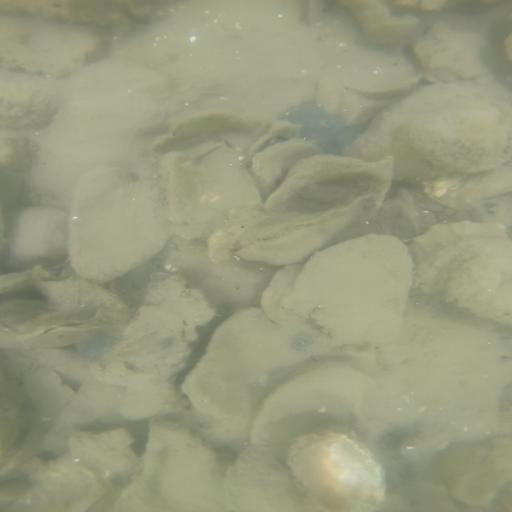Oyster-Closed: (340, 78, 511, 180), (291, 232, 417, 343), (406, 220, 512, 331), (404, 95, 510, 172), (229, 446, 302, 512), (1, 71, 69, 131), (11, 205, 70, 264)
Oyster-Open: (215, 195, 381, 272), (248, 121, 327, 197)
